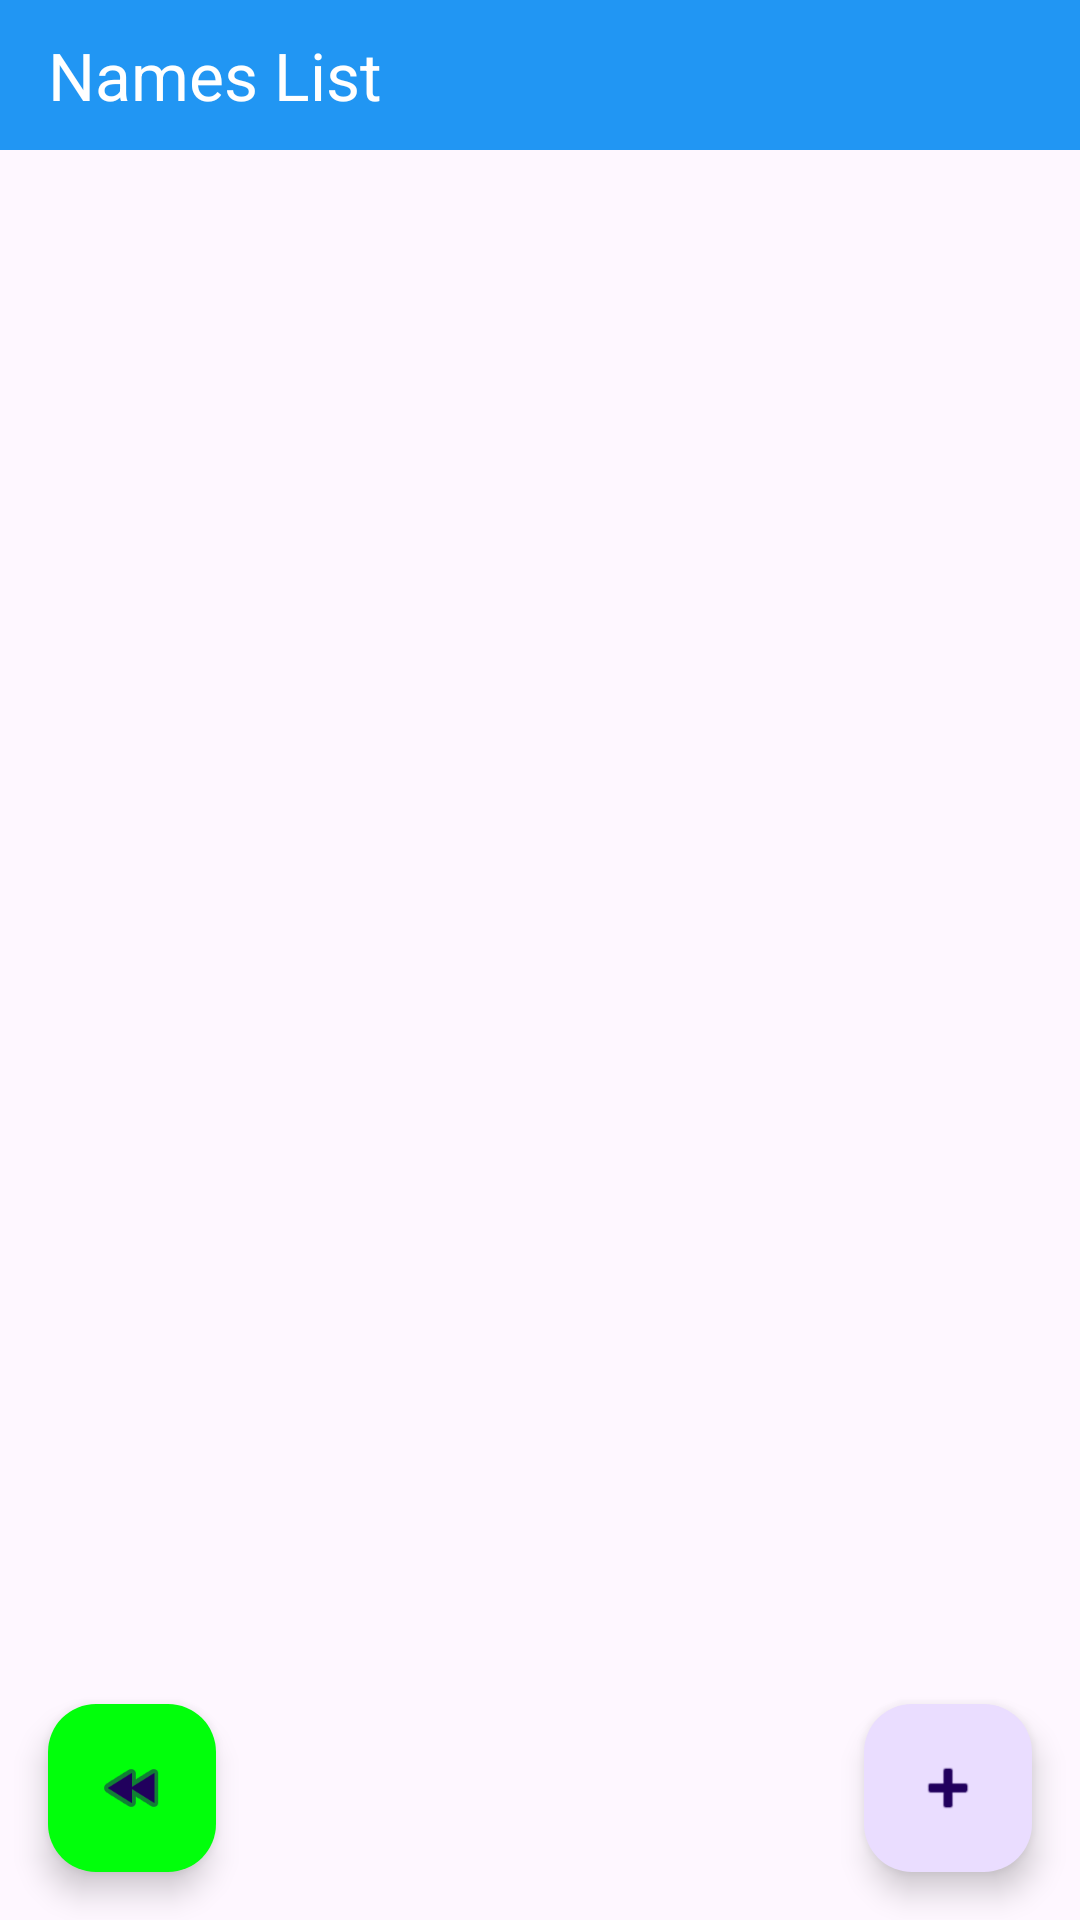

Named icons in this screenshot (1080px×1920px) and their centers, (x=x, y=y):
add: (x=948, y=1788)
rew: (x=132, y=1788)
